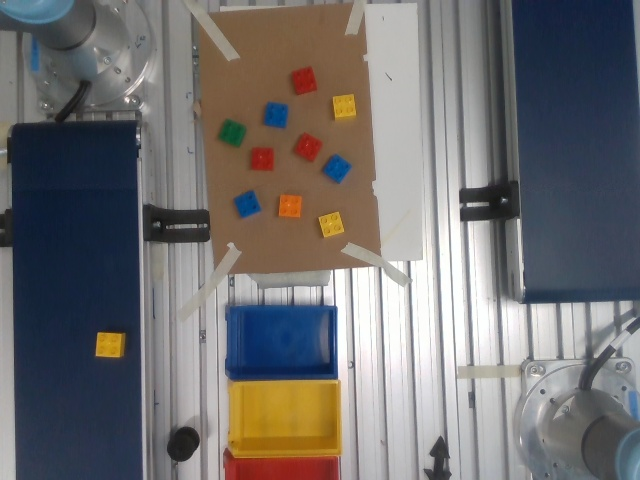duplo_4_blue: (229, 189, 265, 220), (323, 155, 359, 184), (264, 98, 289, 130)
duplo_4_red: (293, 130, 325, 162), (291, 67, 317, 96), (251, 147, 276, 172)
duplo_4_yellow: (315, 212, 346, 239), (330, 94, 359, 122)
ignore: (216, 117, 247, 148), (280, 193, 303, 219)
